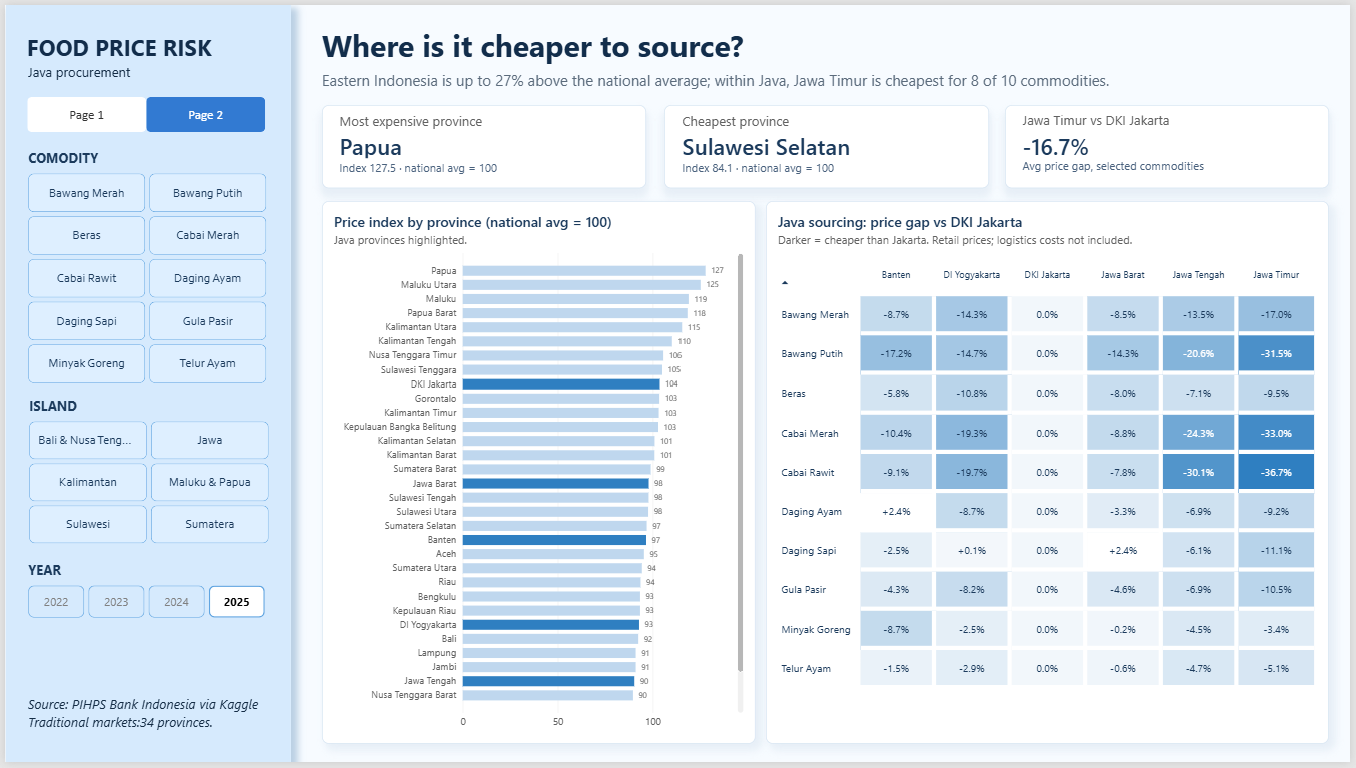

Layout of this report page (visuals, bound fields, positions):
{"tool":"powerbi","page":{"name":"Page 2","canvas":[1920,1080],"ordinal":1},"visuals":[{"type":"shape","box":[1.7,0,407,1080.3],"z":0},{"type":"textbox","box":[31,36.6,332.9,47.1],"z":1000},{"type":"textbox","box":[32.4,83.1,170.4,36.6],"z":2000},{"type":"textbox","box":[453.3,28.3,925,73.3],"z":3000},{"type":"textbox","box":[453.3,93.3,1171.7,50],"z":4000},{"type":"textbox","box":[32.4,984.5,346.5,69],"z":5000},{"type":"advancedSlicerVisual","title":"COMODITY","fields":{"Values":["dim_komoditas.nama_komoditas"]},"box":[26.5,205.4,353.3,338.3],"z":6000},{"type":"pageNavigator","box":[25,131.7,353.3,50],"z":7000},{"type":"advancedSlicerVisual","title":"ISLAND","fields":{"Values":["dim_provinsi.pulau"]},"box":[27.9,558.4,354.4,211.8],"z":8000},{"type":"advancedSlicerVisual","title":"YEAR","fields":{"Values":["dim_tahun.tahun"]},"box":[26.5,792.2,352.9,85.3],"z":9000},{"type":"cardVisual","fields":{"Data":["_Measures.Provinsi Termahal"]},"box":[452.9,142.6,463.2,119.1],"z":10000},{"type":"cardVisual","fields":{"Data":["_Measures.Provinsi Termurah"]},"box":[941.2,142.6,463.2,119.1],"z":11000},{"type":"cardVisual","fields":{"Data":["_Measures.Selisih Jatim vs Jakarta"]},"box":[1426.5,142.6,463.2,119.1],"z":12000},{"type":"clusteredBarChart","title":"Price index by province (national avg = 100)","fields":{"Category":["dim_provinsi.provinsi"],"Y":["_Measures.Indeks Rata-rata"]},"box":[452.9,279.4,617.6,773.5],"z":13000},{"type":"pivotTable","title":"Java sourcing: price gap vs DKI Jakarta","fields":{"Columns":["dim_provinsi.provinsi"],"Rows":["dim_komoditas.nama_komoditas"],"Values":["_Measures.Selisih vs Jakarta"]},"box":[1085.3,279.4,804.4,773.5],"z":14000}]}

Visuals, with their boxes in screenshot pixels (x1, y1, x2, y2), scaled from the page's 1920x1080 canvas onto the 1356x768 screenshot:
shape: bbox(1, 0, 289, 767)
textbox: bbox(22, 26, 257, 60)
textbox: bbox(23, 59, 143, 85)
textbox: bbox(320, 20, 973, 72)
textbox: bbox(320, 66, 1148, 102)
textbox: bbox(23, 700, 268, 749)
"COMODITY" advancedSlicerVisual: bbox(19, 146, 268, 387)
pageNavigator: bbox(18, 94, 267, 129)
"ISLAND" advancedSlicerVisual: bbox(20, 397, 270, 548)
"YEAR" advancedSlicerVisual: bbox(19, 563, 268, 624)
cardVisual - _Measures.Provinsi Termahal: bbox(320, 101, 647, 186)
cardVisual - _Measures.Provinsi Termurah: bbox(665, 101, 992, 186)
cardVisual - _Measures.Selisih Jatim vs Jakarta: bbox(1007, 101, 1335, 186)
"Price index by province (national avg = 100)" clusteredBarChart: bbox(320, 199, 756, 749)
"Java sourcing: price gap vs DKI Jakarta" pivotTable: bbox(766, 199, 1335, 749)
